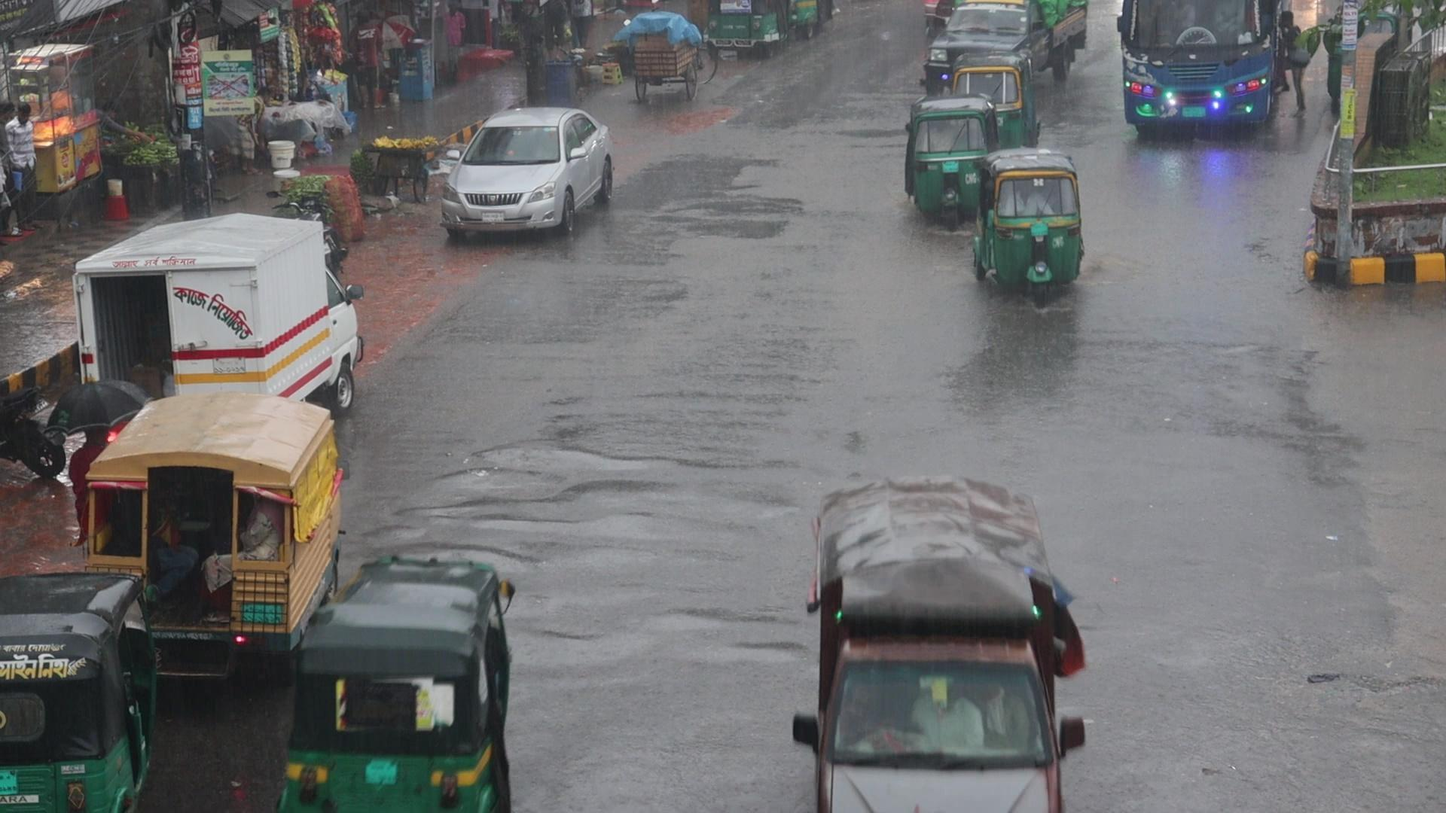Truck: (789, 474, 1089, 813), (85, 388, 344, 613)
